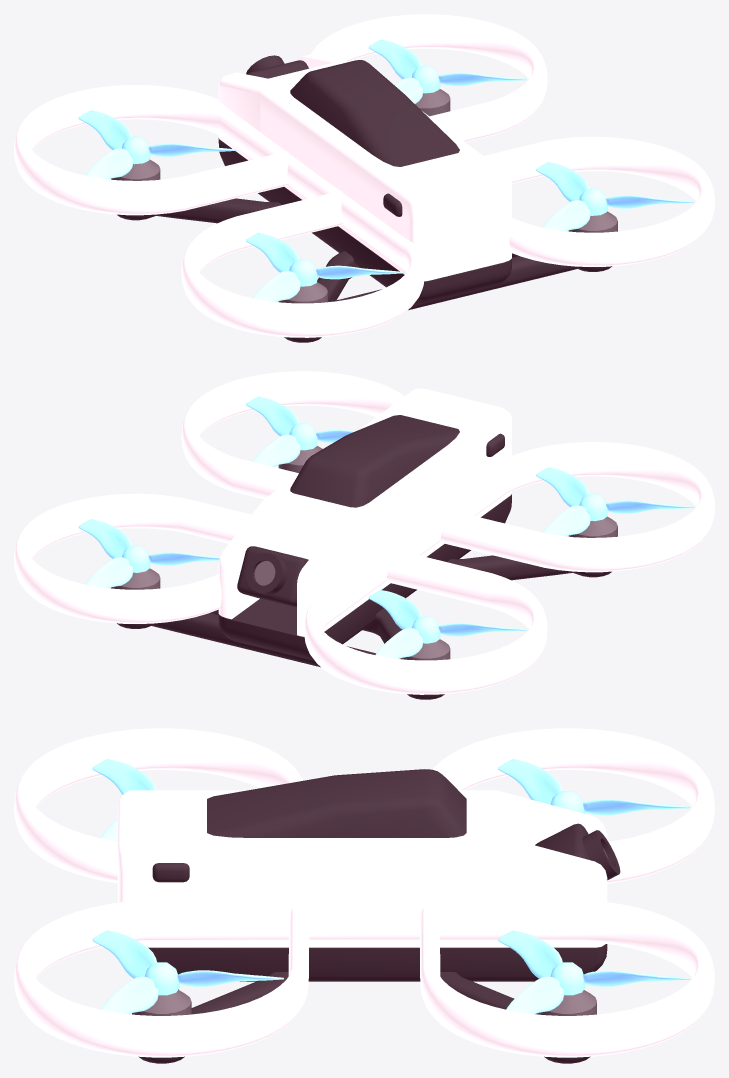
File: copter.glb
3 views of the same model, one above another, from view 1: azimuth 30°, elevation 25°; view 2: azimuth 150°, elevation 25°; view 3: azimuth 270°, elevation 25° (orthographic). The views are drawn at different scales.
Parts seen in each view (by area): view 1: body, duga, duga2, duga3, duga1, bodytop, bottom, frame, frame2, frame3, Cube.017, Cube.008 (+18 smaller); view 2: body, duga2, duga, duga1, duga3, bodytop, bottom, frame3, frame1, cambox, frame, Cube.018 (+18 smaller); view 3: body, duga1, duga3, duga2, duga, bodytop, bottom, frame2, Cube.013, Cube.019, Cube.010, Cube.018 (+14 smaller).
Boxes of the visible parts, x1,y1,x2,y2 form: body: [218, 54, 511, 281]; duga: [14, 85, 314, 215]; duga2: [181, 173, 424, 337]; duga3: [484, 136, 714, 266]; duga1: [310, 14, 547, 142]; bodytop: [290, 60, 459, 166]; bottom: [218, 138, 511, 304]; frame: [117, 198, 281, 223]; frame2: [450, 253, 611, 299]; frame3: [284, 251, 451, 342]; Cube.017: [536, 162, 589, 201]; Cube.008: [78, 110, 131, 150]; body: [218, 388, 511, 636]; duga2: [414, 442, 714, 572]; duga: [304, 530, 547, 694]; duga1: [14, 493, 251, 623]; duga3: [181, 371, 404, 499]; bodytop: [290, 415, 459, 507]; bottom: [218, 494, 511, 659]; frame3: [447, 555, 611, 580]; frame1: [117, 609, 278, 656]; cambox: [237, 546, 308, 607]; frame: [277, 608, 444, 699]; Cube.018: [246, 396, 299, 436]; body: [117, 790, 607, 947]; duga1: [364, 901, 714, 1057]; duga3: [14, 901, 364, 1057]; duga2: [14, 728, 303, 882]; duga: [433, 728, 714, 883]; bodytop: [207, 769, 466, 837]; bottom: [148, 944, 607, 981]; frame2: [138, 972, 288, 1063]; Cube.013: [498, 930, 562, 978]; Cube.019: [92, 930, 156, 978]; Cube.010: [498, 759, 562, 804]; Cube.018: [100, 976, 158, 1014].
Size of the model in its own units: 4.84 by 1.42 by 4.84.
